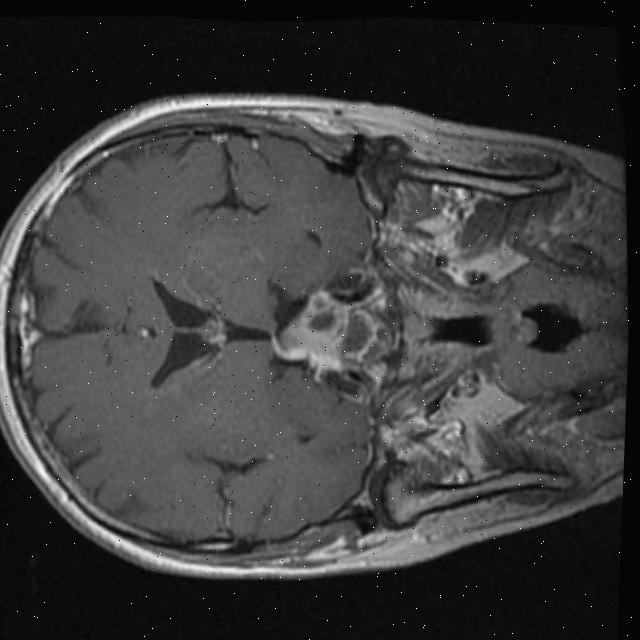Pituitary: (267, 286, 380, 378)
